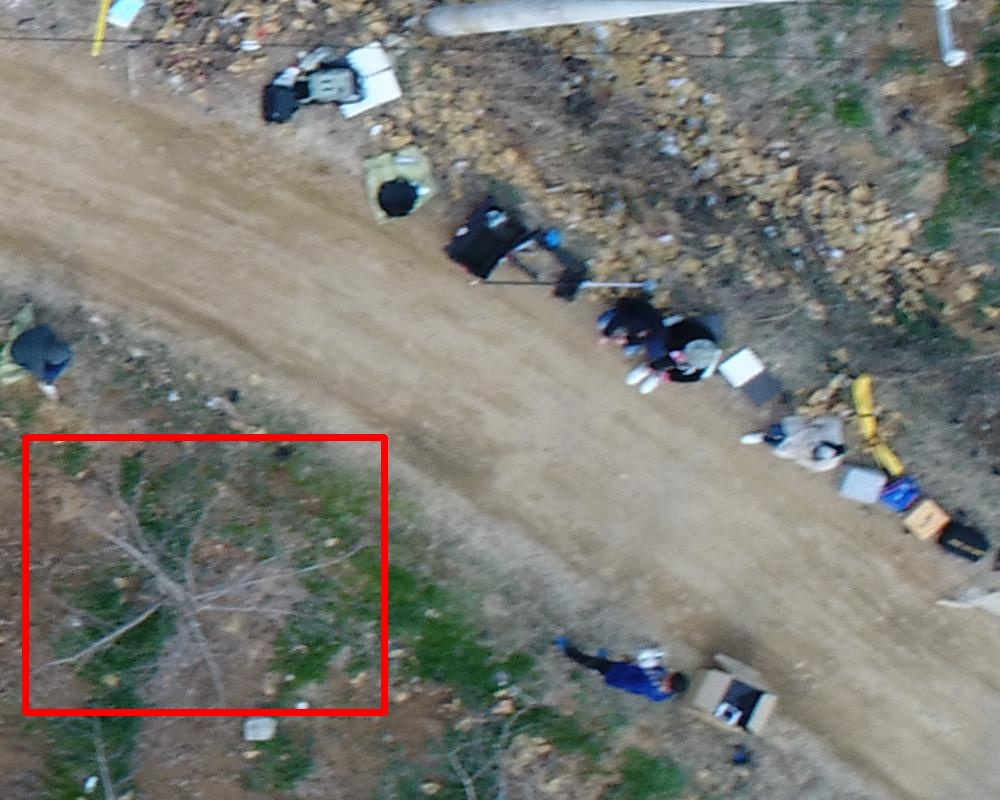apple: (25, 437, 384, 712)
